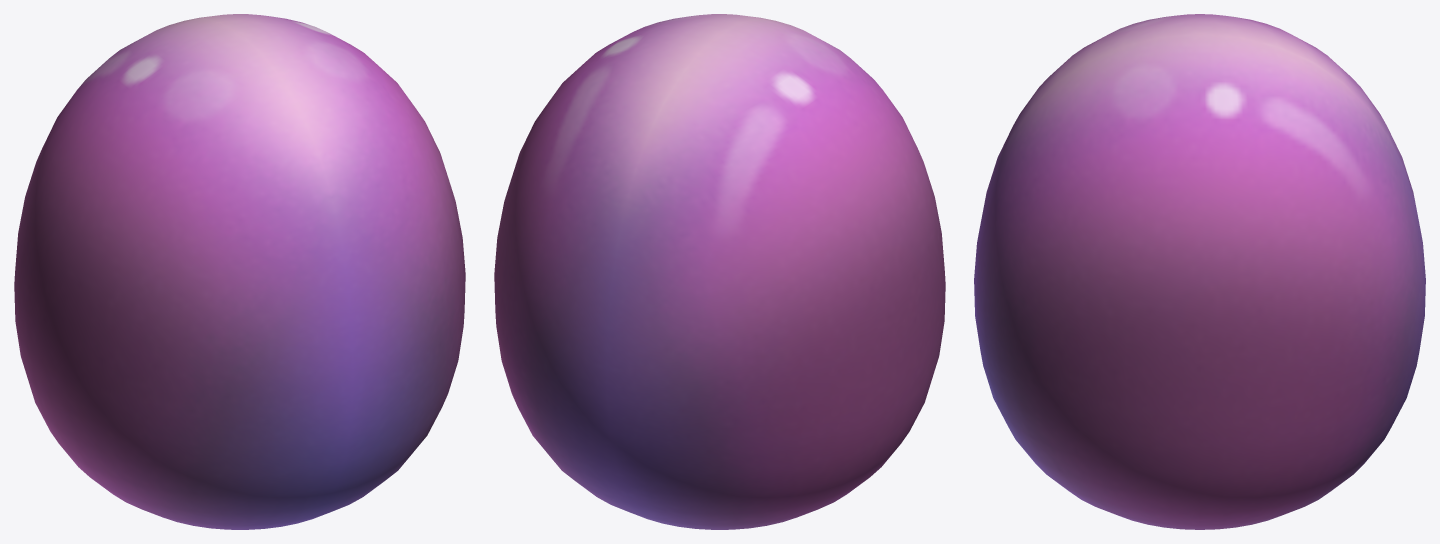
File: scenes_level_mid01.FBX
3 renders of one model, left to right at view 1: azimuth 30°, elevation 25°; view 2: azimuth 150°, elevation 25°; view 3: azimuth 270°, elevation 25°, orthographic.
Visible parts, largest first — view 1: scenes_level_mid01; view 2: scenes_level_mid01; view 3: scenes_level_mid01.
Boxes of the visible parts, x1=… form: scenes_level_mid01: x1=14, y1=14, x2=465, y2=529; scenes_level_mid01: x1=494, y1=14, x2=945, y2=529; scenes_level_mid01: x1=974, y1=14, x2=1425, y2=529.
Bounding box in the file's own units: 553 × 635 × 553.
